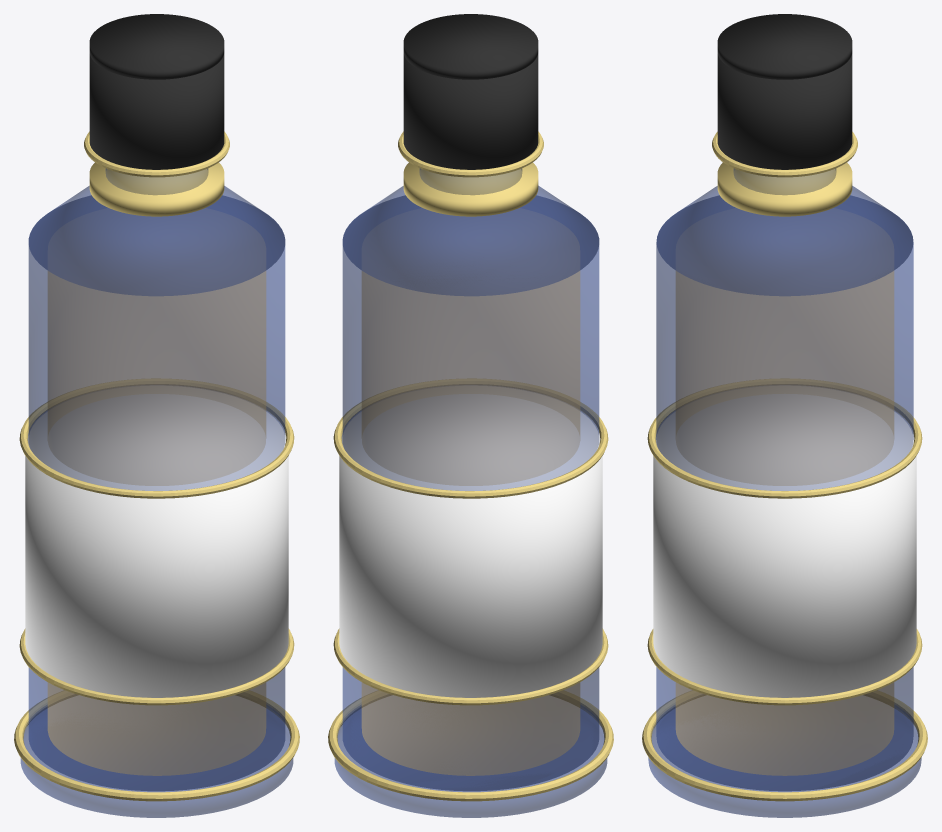
The model's file is luxury.glb.
The picture shows the model from 3 angles, left to right: view 1: azimuth 30°, elevation 25°; view 2: azimuth 150°, elevation 25°; view 3: azimuth 270°, elevation 25°; orthographic projection.
Parts seen in each view (by area): view 1: Body, Label, Liquid, Shoulder, Cap_Body, Base, Cap_Top, Collar, Label_Top, Base_Ring, Label_Bot, Neck (+1 smaller); view 2: Body, Label, Liquid, Shoulder, Cap_Body, Base, Cap_Top, Collar, Label_Top, Base_Ring, Label_Bot, Neck (+1 smaller); view 3: Body, Label, Liquid, Shoulder, Cap_Body, Base, Cap_Top, Collar, Label_Top, Base_Ring, Label_Bot, Neck (+1 smaller).
Boxes of the visible parts, x1,y1,x2,y2 form: Body: (28,195,285,791); Label: (25,385,288,697); Liquid: (48,271,265,775); Shoulder: (28,186,285,296); Cap_Body: (89,54,224,169); Base: (20,708,293,817); Cap_Top: (89,14,224,79); Collar: (89,162,224,216); Label_Top: (19,379,294,498); Base_Ring: (14,690,299,801); Label_Bot: (19,628,294,705); Neck: (105,168,208,194); Body: (342,195,599,791); Label: (339,385,602,697); Liquid: (362,271,579,775); Shoulder: (342,186,599,296); Cap_Body: (403,54,538,169); Base: (334,708,607,817); Cap_Top: (403,14,538,79); Collar: (403,162,538,216); Label_Top: (333,379,608,498); Base_Ring: (328,690,613,801); Label_Bot: (333,628,608,705); Neck: (419,168,522,194); Body: (656,195,913,791); Label: (653,385,916,697); Liquid: (676,271,893,775); Shoulder: (656,186,913,296); Cap_Body: (717,54,852,169); Base: (648,708,921,817); Cap_Top: (717,14,852,79); Collar: (717,162,852,216); Label_Top: (647,379,922,498); Base_Ring: (642,690,927,801); Label_Bot: (647,629,922,705); Neck: (733,168,836,194).
Bounding box in the file's own units: 1.78 × 4.93 × 1.78.
